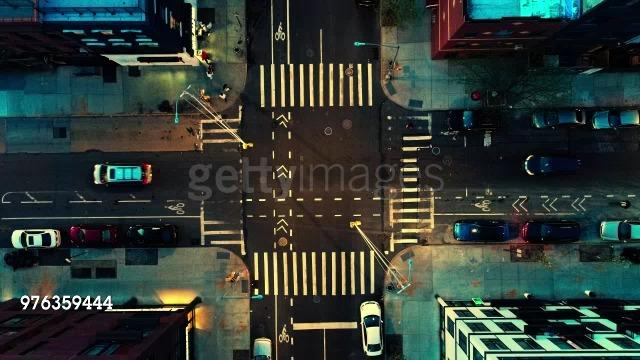car: (90, 162, 156, 192), (356, 296, 386, 358), (522, 154, 588, 182), (452, 216, 508, 248), (527, 105, 587, 133), (442, 110, 508, 134), (521, 222, 581, 246), (596, 213, 640, 245), (125, 224, 181, 248), (592, 103, 640, 130), (11, 229, 64, 251), (66, 226, 120, 246), (252, 336, 276, 360)
